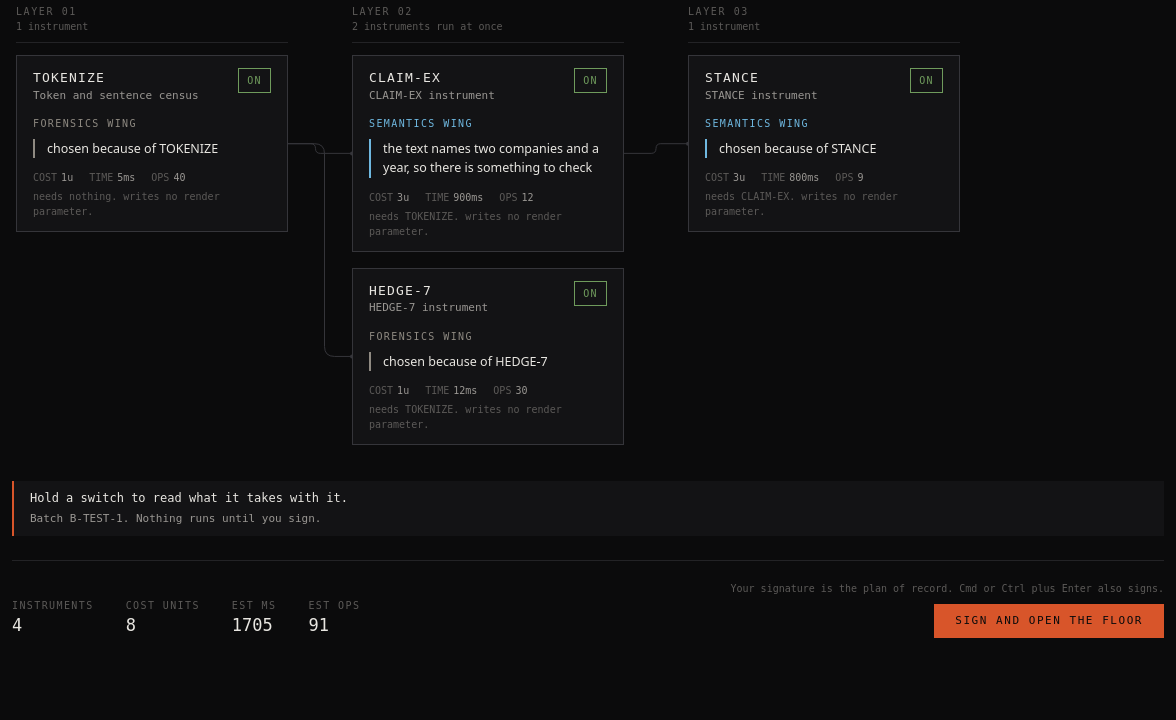
Test case: WorkOrderDag › disables the dependents when an operator is switched off and gives the reason
Click the switch named "CLAIM-EX". click: x=591, y=80
box: [574, 68, 607, 93]
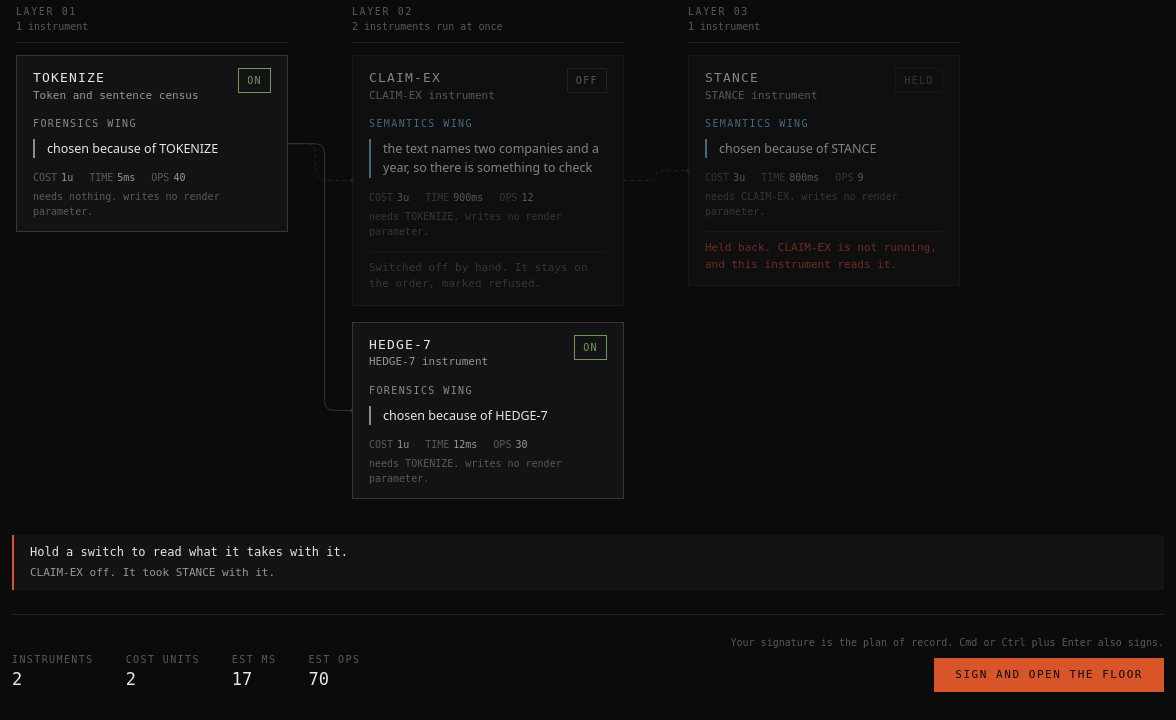
Result: the text with test id "last-action" shows "STANCE" at [30, 566, 275, 579]
